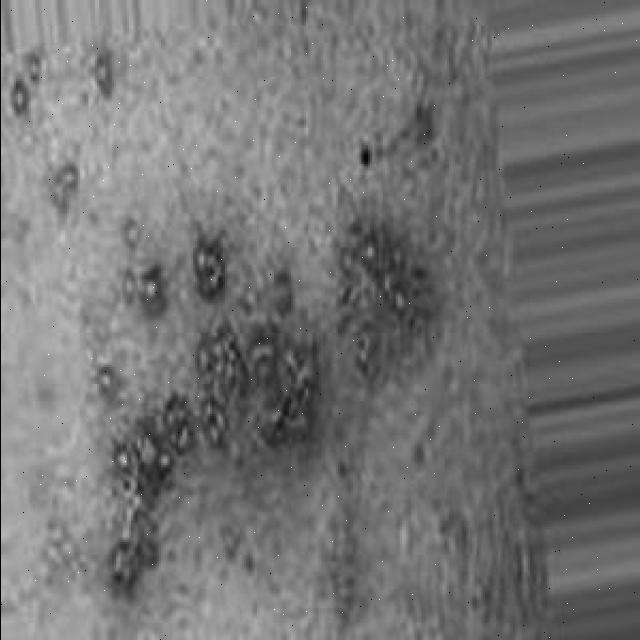Shingles: (97, 194, 432, 616)
